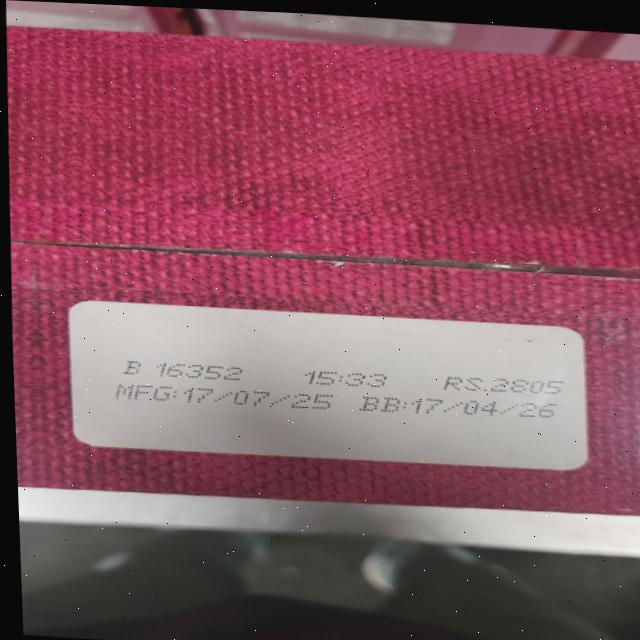BB: (359, 391, 561, 423)
Batch: (122, 359, 250, 382)
MFG: (114, 380, 332, 412)
RS: (442, 374, 570, 397)
TimeStamp: (303, 368, 391, 389)
